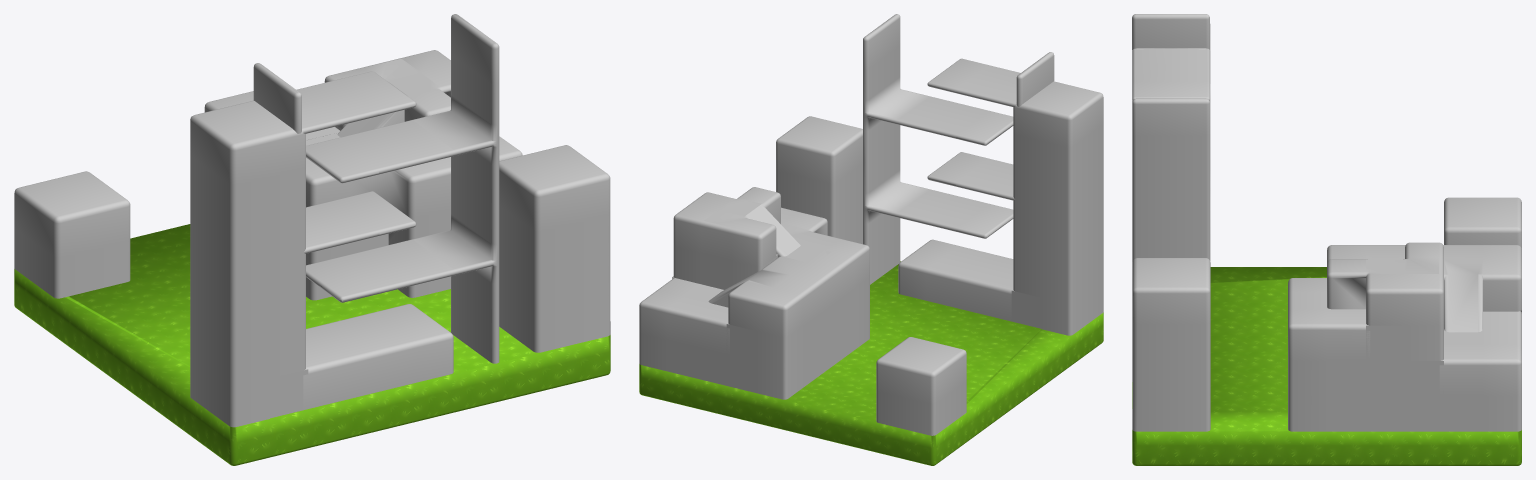
Rendered from Level 2.fbx.
The picture shows the model from 3 angles, left to right: view 1: azimuth 30°, elevation 25°; view 2: azimuth 150°, elevation 25°; view 3: azimuth 270°, elevation 25°; orthographic projection. The views are drawn at different scales.
Visible parts, largest first — view 1: LVL2; view 2: LVL2; view 3: LVL2.
Part boxes in pixels (x1,y1,x2,y2): LVL2: [14, 14, 610, 465]; LVL2: [639, 14, 1103, 465]; LVL2: [1132, 14, 1521, 465].
Size of the model in its own units: 2000 by 1800 by 2001.
